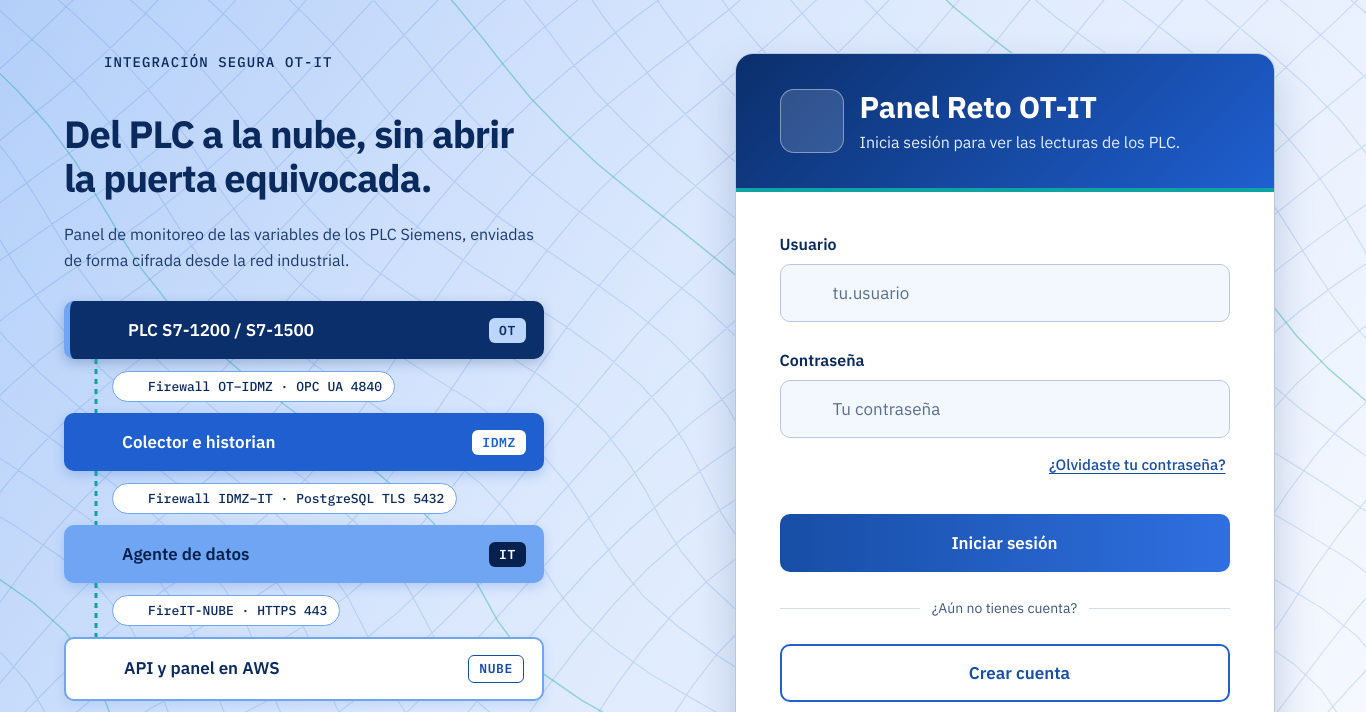
Test: PaginaLogin › avisa si faltan el usuario o la contrasena
Click the button "Iniciar sesión": (1004, 543) [780, 514, 1230, 572]
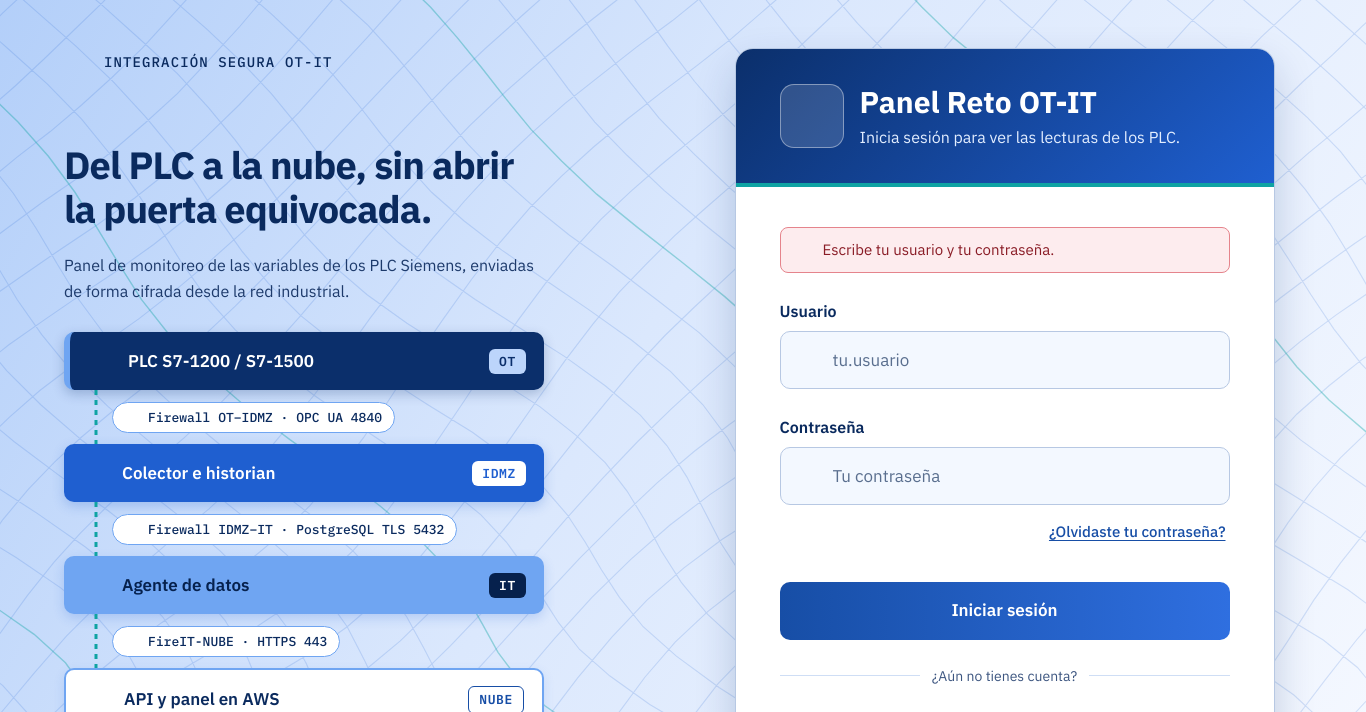
Now the message reads "Escribe tu usuario y tu contraseña.", box [822, 240, 1054, 258]
